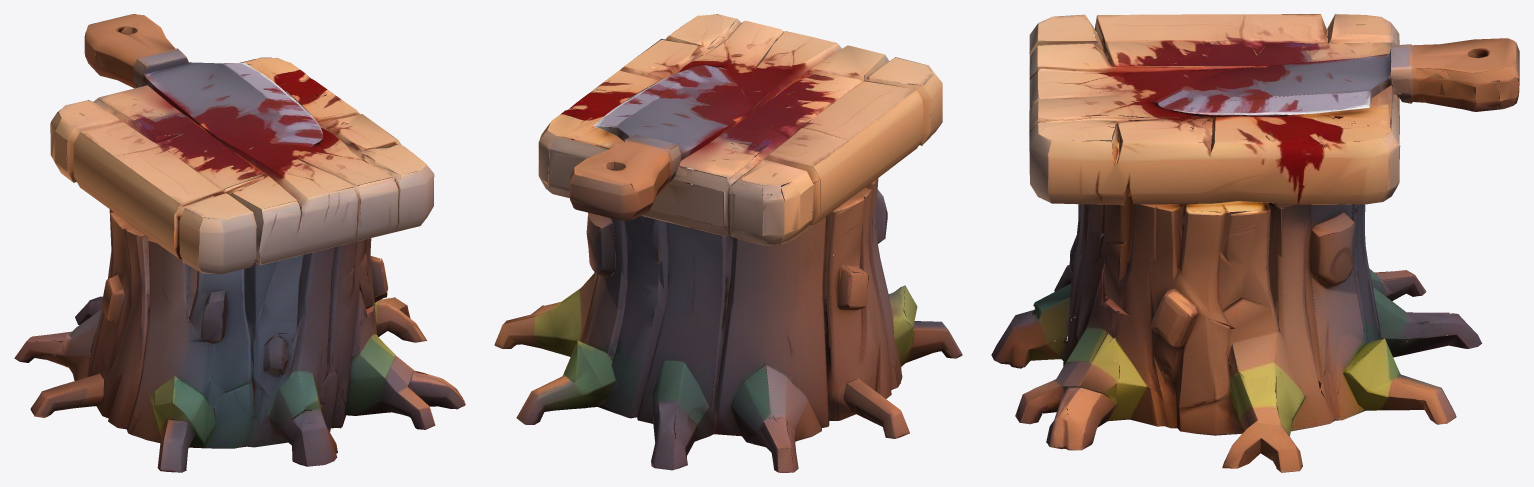
The model's file is block.glb.
3 renders of one model, left to right at view 1: azimuth 30°, elevation 25°; view 2: azimuth 150°, elevation 25°; view 3: azimuth 270°, elevation 25°, orthographic. The views are drawn at different scales.
Visible parts, largest first — view 1: block; view 2: block; view 3: block.
Boxes of the visible parts, x1,y1,x2,y2 form: block: (14,14,465,472); block: (494,14,962,472); block: (991,14,1519,472).
Bounding box in the file's own units: 0.9178 × 0.6333 × 0.9694.
1 material, 1 textured.
